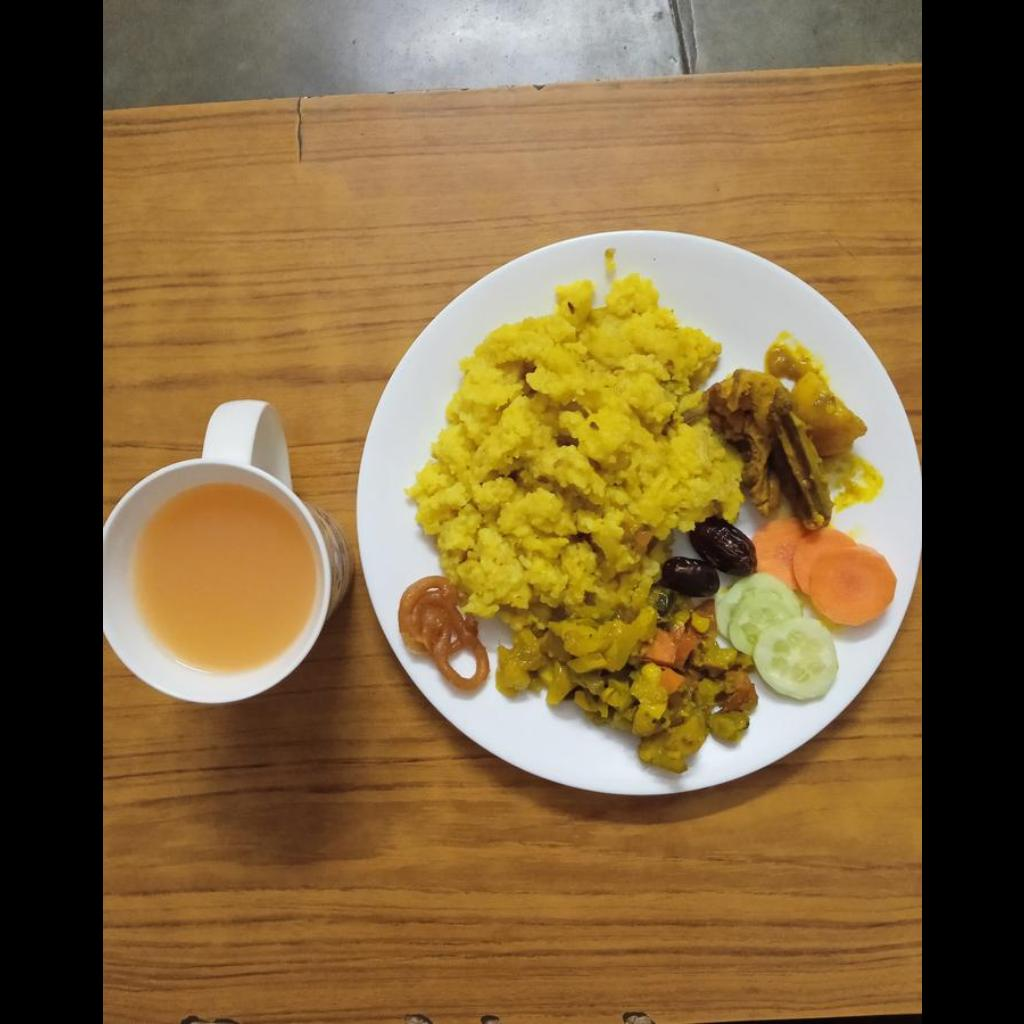carrot: (759, 528, 892, 631)
chicken: (722, 340, 872, 519)
cucumber: (720, 575, 834, 703)
jilapi: (401, 574, 484, 681)
juice: (133, 495, 306, 660)
khichuri: (427, 288, 732, 609)
vegetable: (498, 610, 755, 772)
